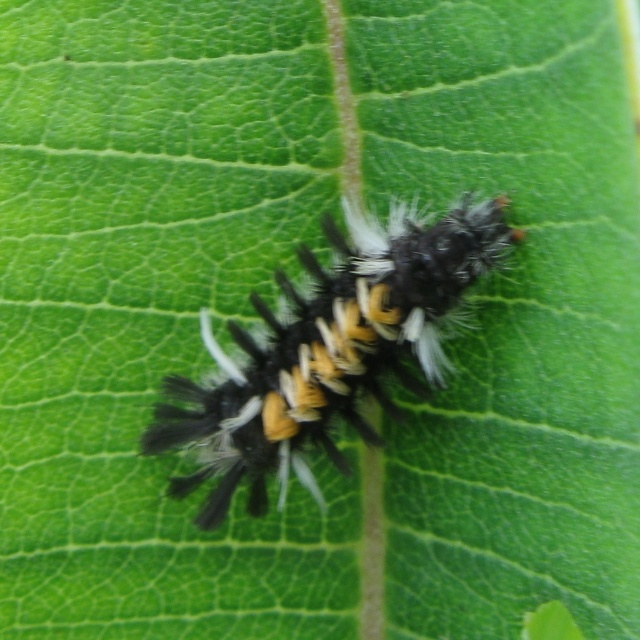Caterpillar: (136, 186, 539, 536)
